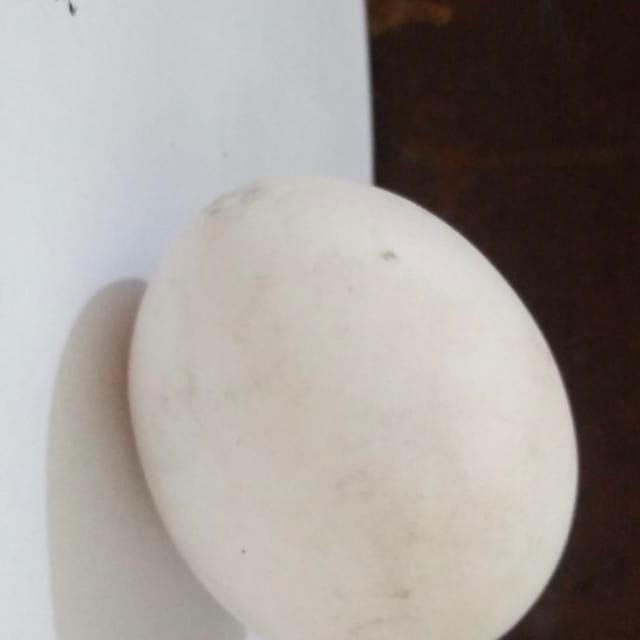egg: (121, 170, 582, 640)
